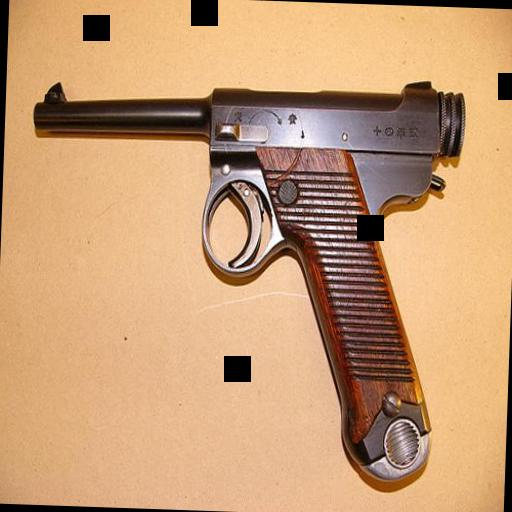Handgun: (18, 60, 464, 490)
